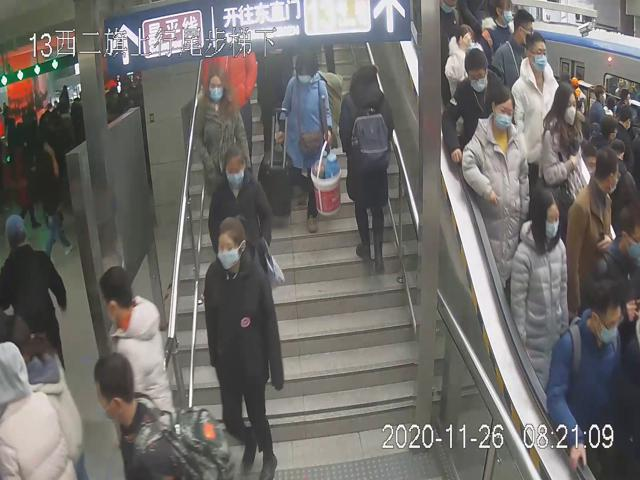person: (203, 217, 285, 480), (460, 86, 529, 300), (341, 48, 396, 276), (510, 184, 568, 396), (277, 44, 340, 237), (206, 144, 279, 280), (193, 62, 250, 203), (511, 35, 560, 183), (539, 76, 583, 209)
